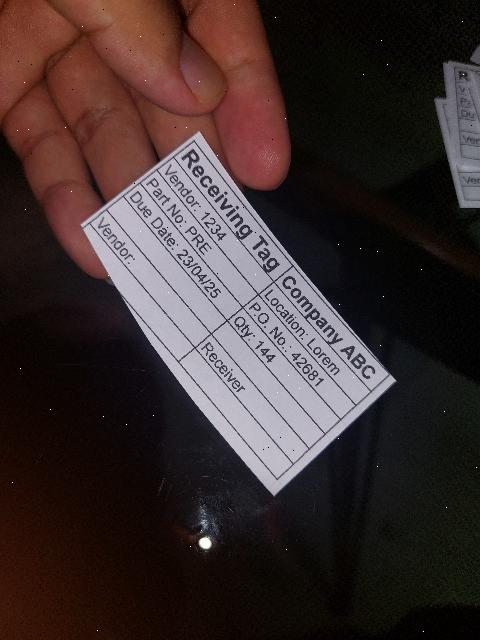PO no: (243, 294, 355, 421)
part no: (140, 170, 259, 307)
qty: (228, 308, 341, 434)
tags: (82, 131, 395, 495)
